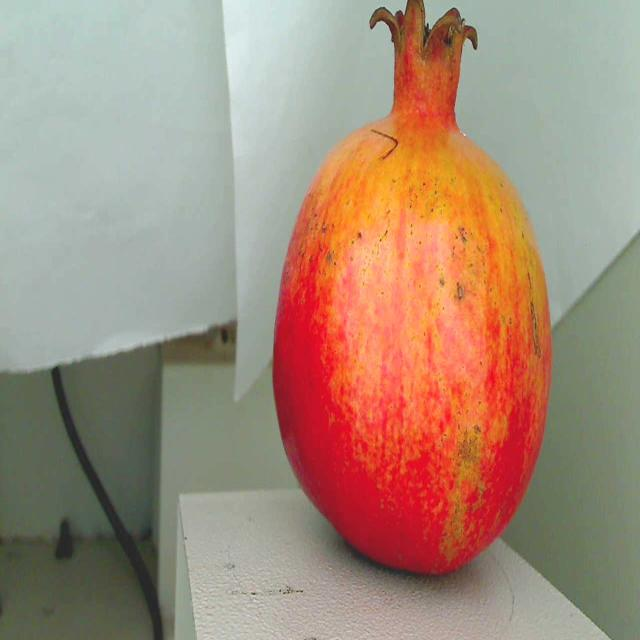pomegranate: (262, 0, 574, 574)
